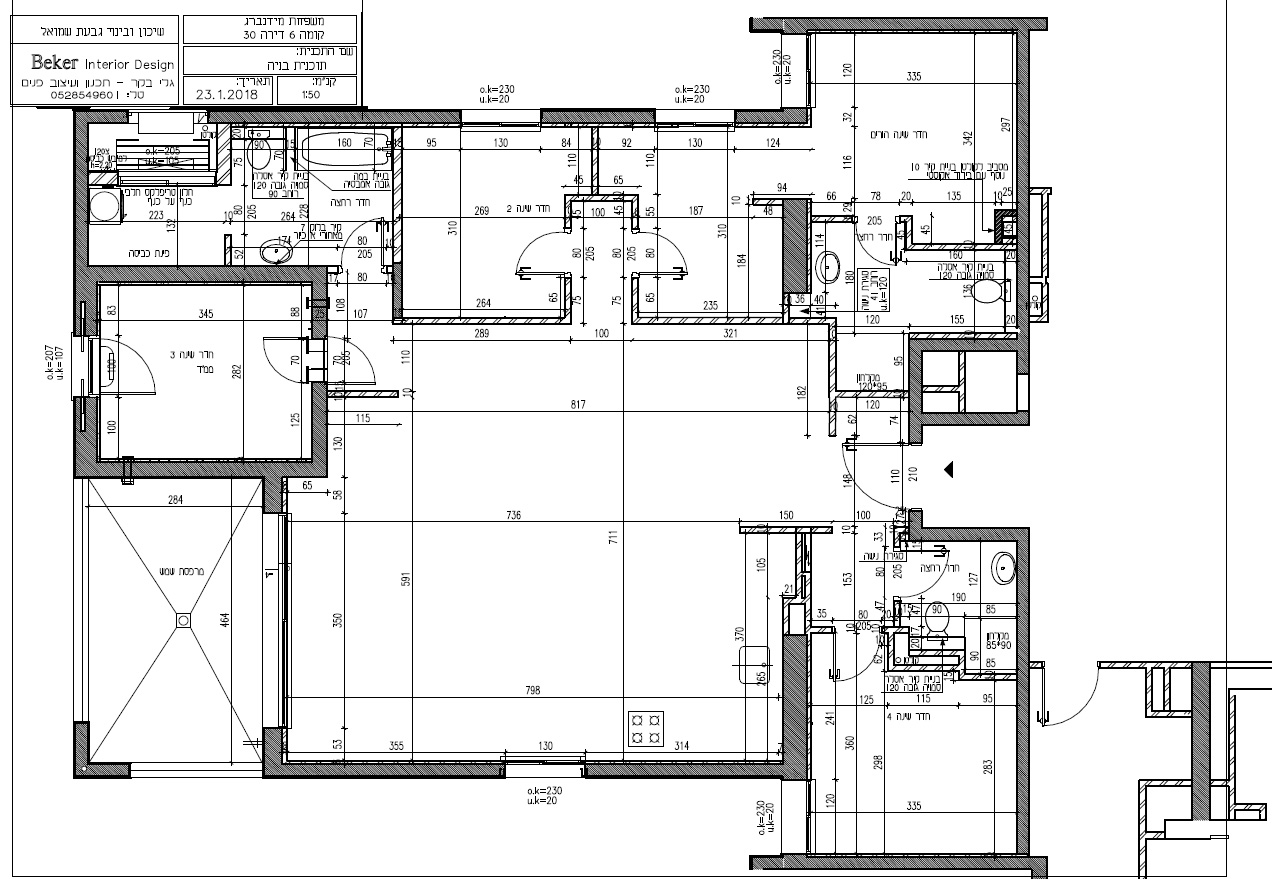door: (832, 436, 900, 515), (107, 327, 163, 407), (1037, 669, 1103, 734), (334, 328, 383, 390), (515, 224, 564, 286), (259, 325, 307, 388), (643, 227, 697, 283)
wall: (1016, 30, 1030, 373), (1016, 542, 1030, 855), (76, 265, 328, 282), (76, 461, 328, 478), (263, 763, 504, 779), (1190, 662, 1212, 819), (783, 17, 1047, 30), (207, 111, 460, 124), (586, 763, 781, 778), (782, 857, 1046, 868), (74, 111, 87, 264), (539, 109, 655, 124), (910, 528, 1027, 542), (908, 338, 1015, 351), (908, 353, 923, 445), (923, 413, 1028, 426), (735, 110, 810, 125)
window: (261, 513, 294, 728), (504, 757, 585, 779)
